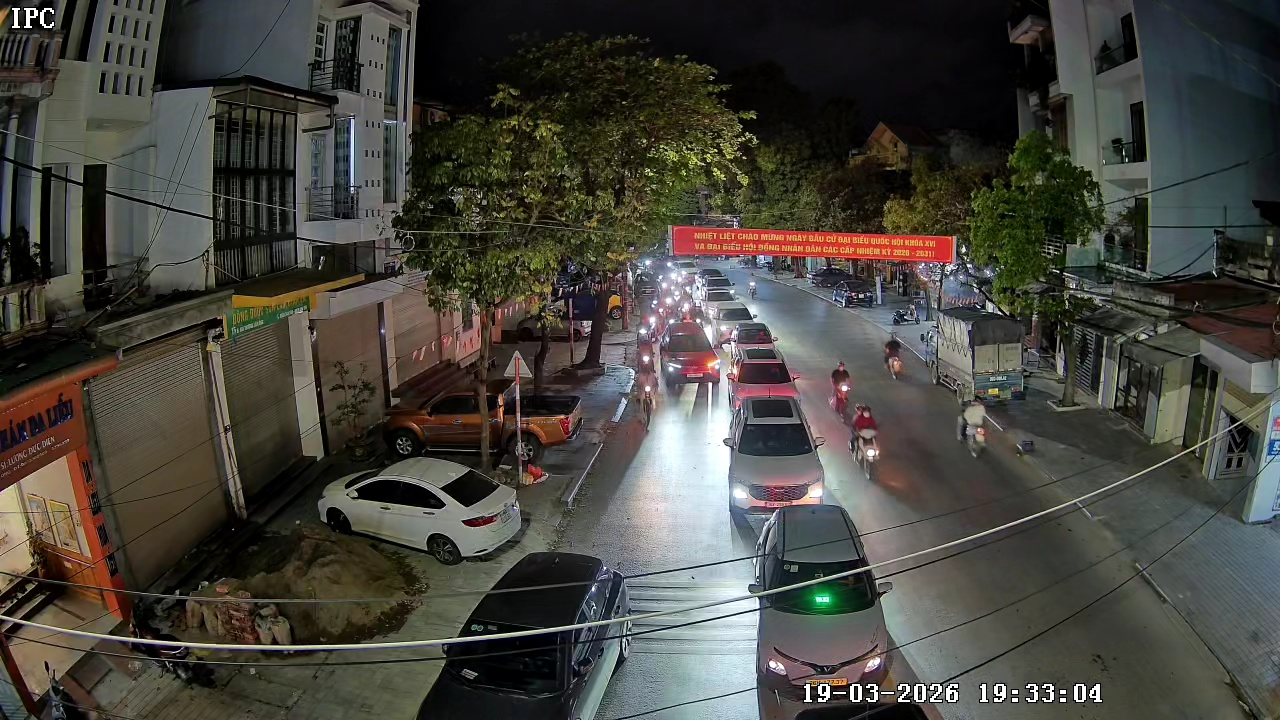car: (413, 549, 630, 719), (747, 501, 897, 719), (319, 456, 530, 561), (721, 392, 827, 534), (726, 348, 797, 416), (661, 323, 722, 395), (727, 318, 778, 365), (716, 299, 758, 349)
motorbike: (847, 402, 884, 482), (955, 389, 993, 462), (828, 359, 854, 423), (883, 336, 906, 382)
